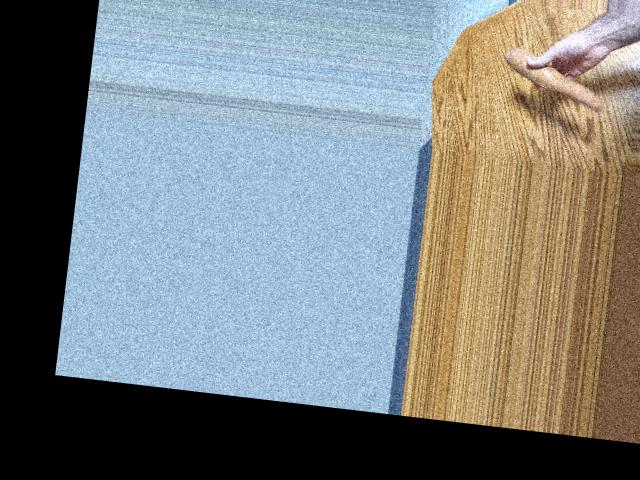sweet_potato: (496, 58, 608, 104)
